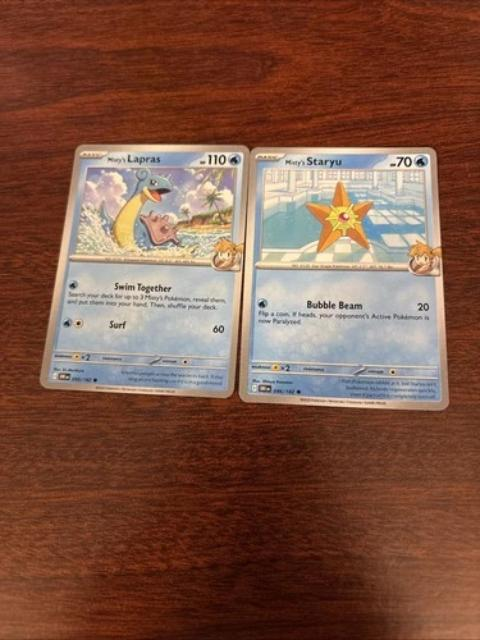Card: (234, 142, 451, 413), (32, 137, 248, 402)
Name: (282, 151, 347, 168), (105, 147, 163, 165)
